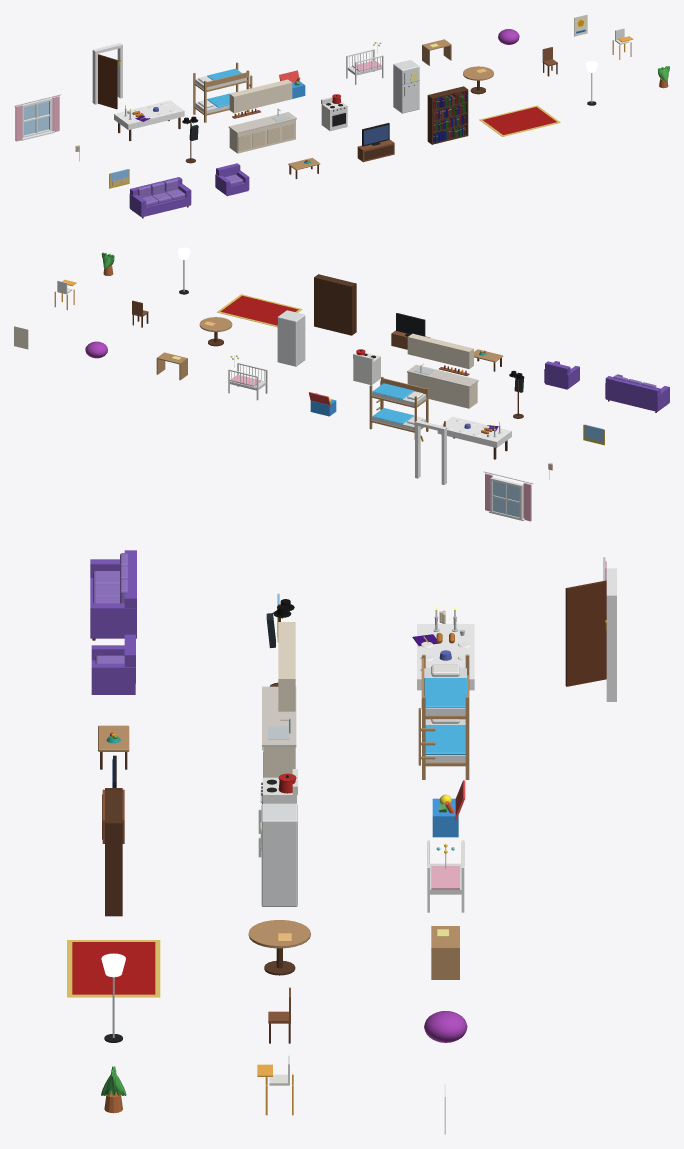
The model's file is homes_kit.glb.
3 views of the same model, one above another, from view 1: azimuth 30°, elevation 25°; view 2: azimuth 150°, elevation 25°; view 3: azimuth 270°, elevation 25° (orthographic). The views are drawn at different scales.
Visible parts, largest first — view 1: Counter_body, Bookcase_body, Couch_body, Door_body, Window_body, BunkBed_body, Rug_body, ShabbosTable_body, Fridge_body, TV_body, Armchair_body, Stove_body (+5 smaller); view 2: Counter_body, Bookcase_body, BunkBed_body, Window_body, Couch_body, Fridge_body, ShabbosTable_body, Rug_body, Door_body, Stove_body, TV_body, Armchair_body (+4 smaller); view 3: Door_body, BunkBed_body, Rug_body, Counter_body, Fridge_body, Couch_body, ShabbosTable_body, Armchair_body, Bookcase_body, KitchenTable_body, Crib_body, Desk_body (+4 smaller).
Part boxes in pixels (x1=…): Counter_body: x1=228, y1=79, x2=296, y2=153; Bookcase_body: x1=427, y1=86, x2=468, y2=144; Couch_body: x1=129, y1=177, x2=191, y2=218; Door_body: x1=92, y1=43, x2=122, y2=109; Window_body: x1=14, y1=94, x2=61, y2=141; BunkBed_body: x1=193, y1=62, x2=252, y2=122; Rug_body: x1=479, y1=105, x2=560, y2=136; ShabbosTable_body: x1=114, y1=100, x2=184, y2=140; Fridge_body: x1=393, y1=60, x2=419, y2=113; TV_body: x1=357, y1=123, x2=394, y2=162; Armchair_body: x1=215, y1=163, x2=249, y2=196; Stove_body: x1=321, y1=94, x2=347, y2=131; Counter_body: x1=407, y1=333, x2=478, y2=408; Bookcase_body: x1=314, y1=274, x2=356, y2=335; BunkBed_body: x1=369, y1=376, x2=428, y2=439; Window_body: x1=483, y1=471, x2=533, y2=521; Couch_body: x1=605, y1=374, x2=669, y2=412; Fridge_body: x1=277, y1=310, x2=305, y2=366; ShabbosTable_body: x1=437, y1=416, x2=511, y2=459; Rug_body: x1=217, y1=294, x2=302, y2=327; Door_body: x1=415, y1=420, x2=446, y2=484; Stove_body: x1=353, y1=349, x2=380, y2=385; TV_body: x1=391, y1=313, x2=430, y2=349; Armchair_body: x1=544, y1=361, x2=579, y2=389; Door_body: x1=565, y1=568, x2=616, y2=701; BunkBed_body: x1=418, y1=654, x2=469, y2=779; Rug_body: x1=67, y1=940, x2=160, y2=997; Counter_body: x1=262, y1=622, x2=296, y2=777; Fridge_body: x1=258, y1=803, x2=297, y2=906; Couch_body: x1=90, y1=550, x2=136, y2=640; ShabbosTable_body: x1=412, y1=606, x2=474, y2=690; Armchair_body: x1=91, y1=634, x2=135, y2=694; Bookcase_body: x1=105, y1=788, x2=122, y2=916; KitchenTable_body: x1=248, y1=920, x2=310, y2=975; Crib_body: x1=427, y1=840, x2=464, y2=912; Desk_body: x1=431, y1=926, x2=459, y2=979.
Bounding box in the file's own units: 23.81 × 3.03 × 10.6.
